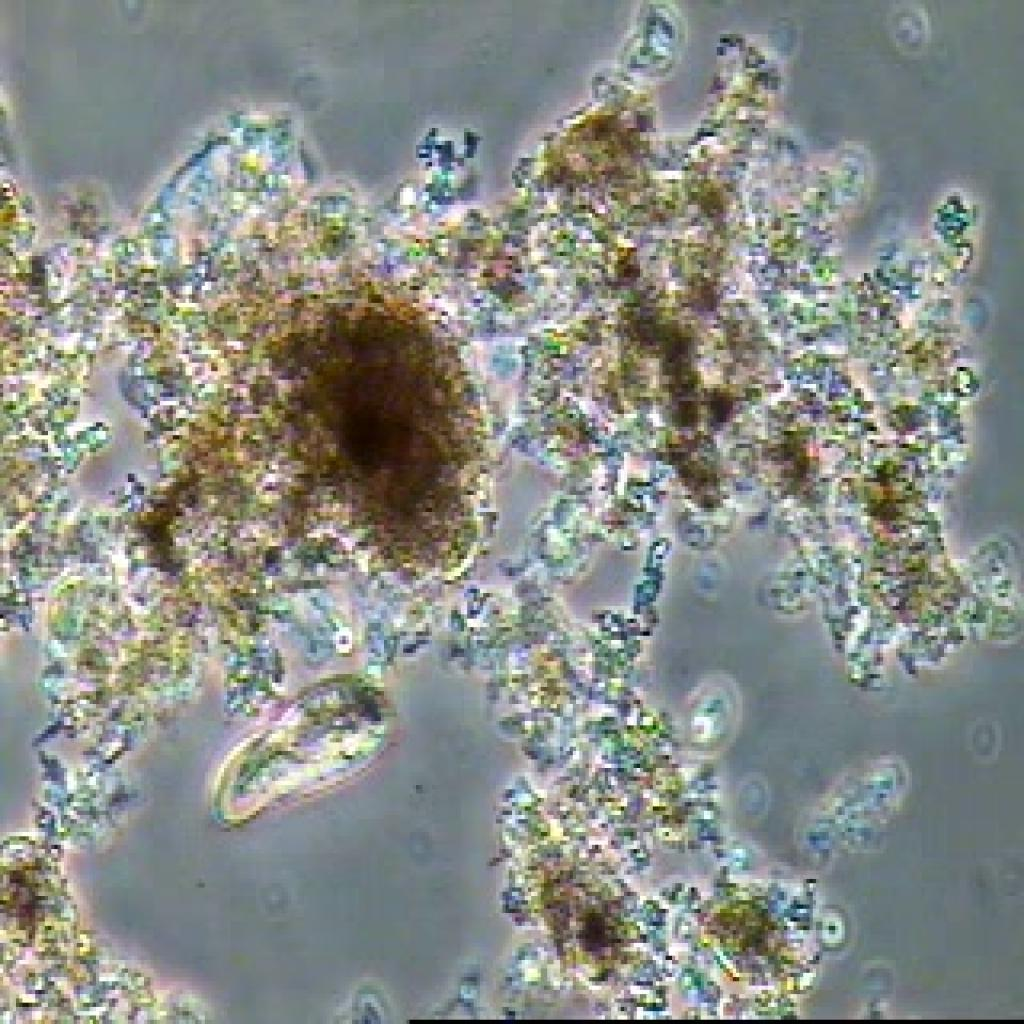Paramecium: (195, 676, 403, 834)
